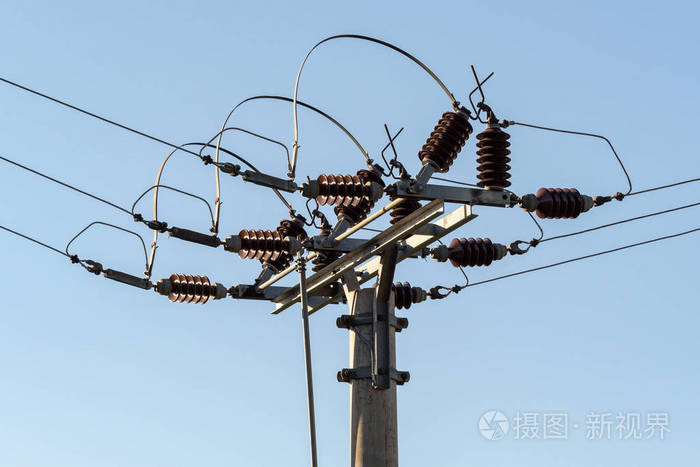insulator: (418, 112, 470, 170), (472, 128, 515, 187), (313, 169, 371, 207), (234, 227, 289, 266), (535, 186, 585, 220), (446, 235, 493, 271), (167, 271, 210, 305), (393, 281, 417, 307)
